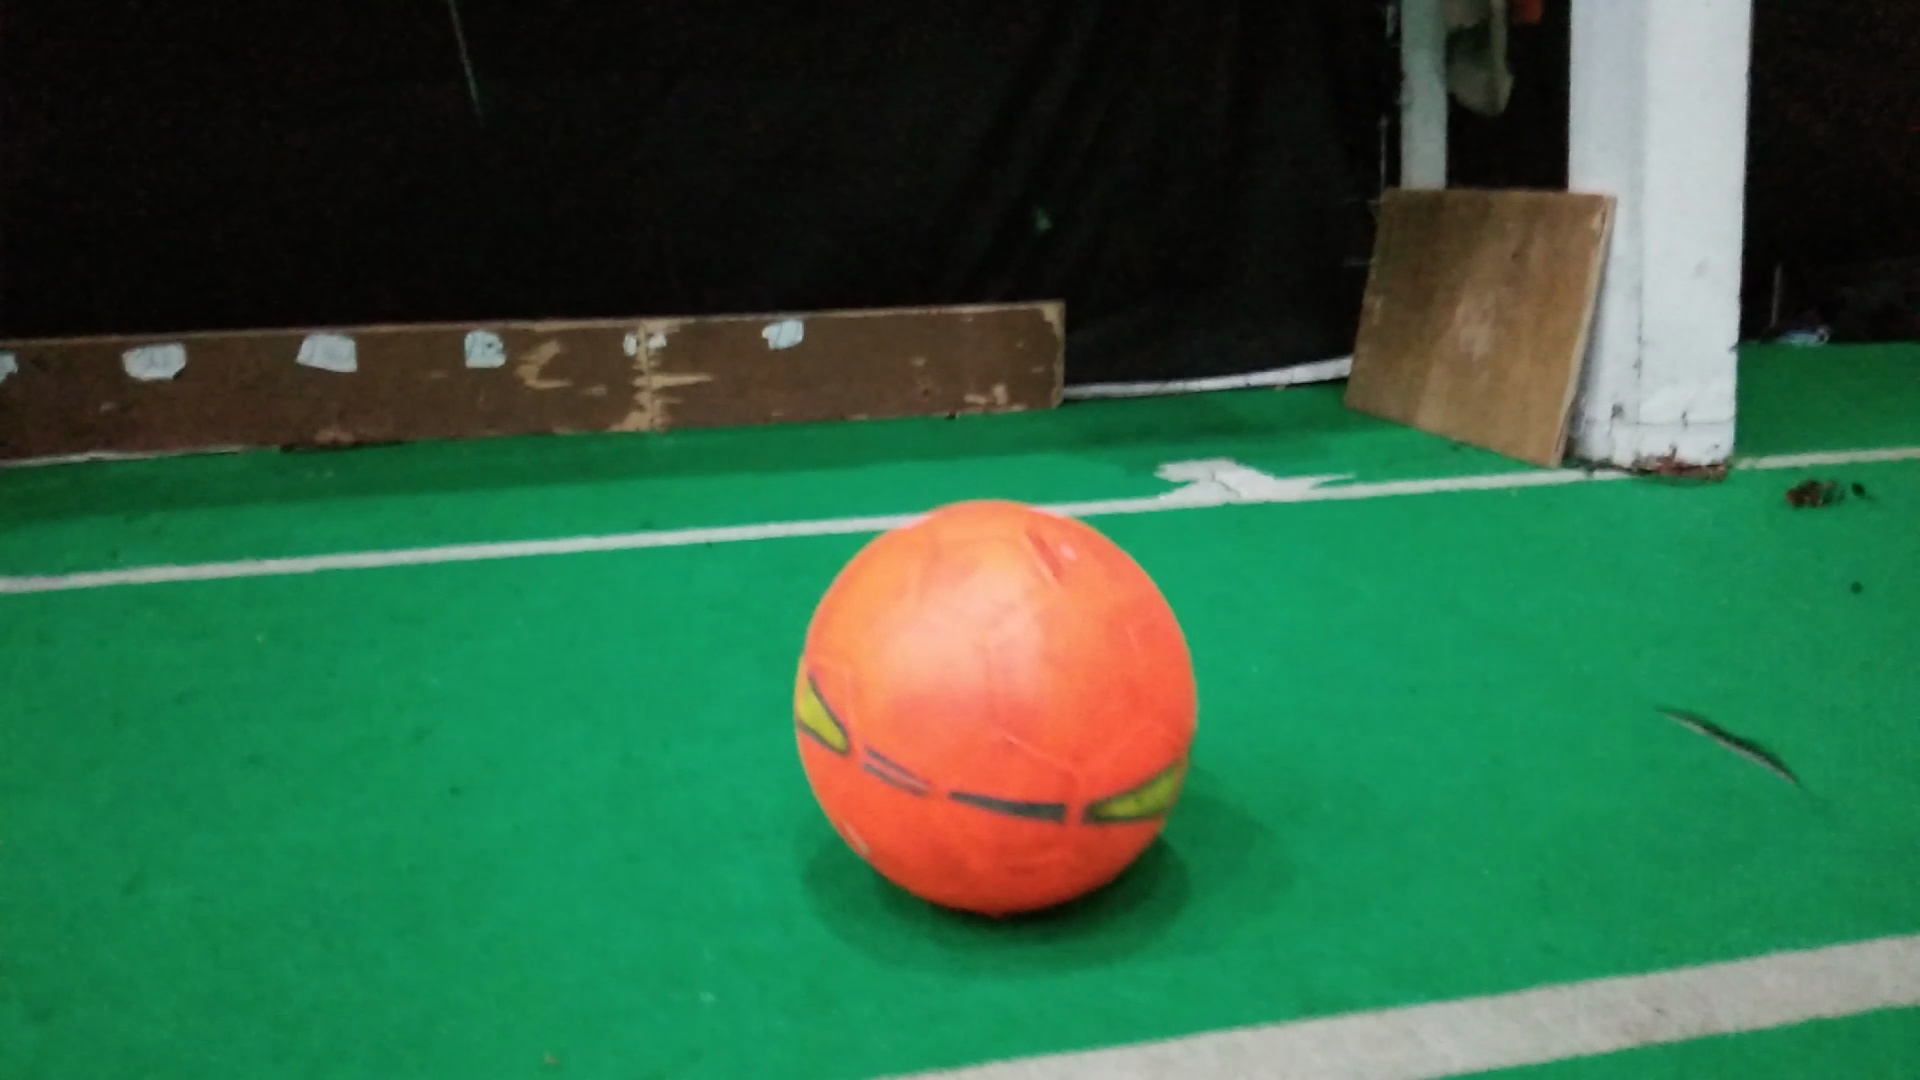bola: (782, 491, 1207, 934)
